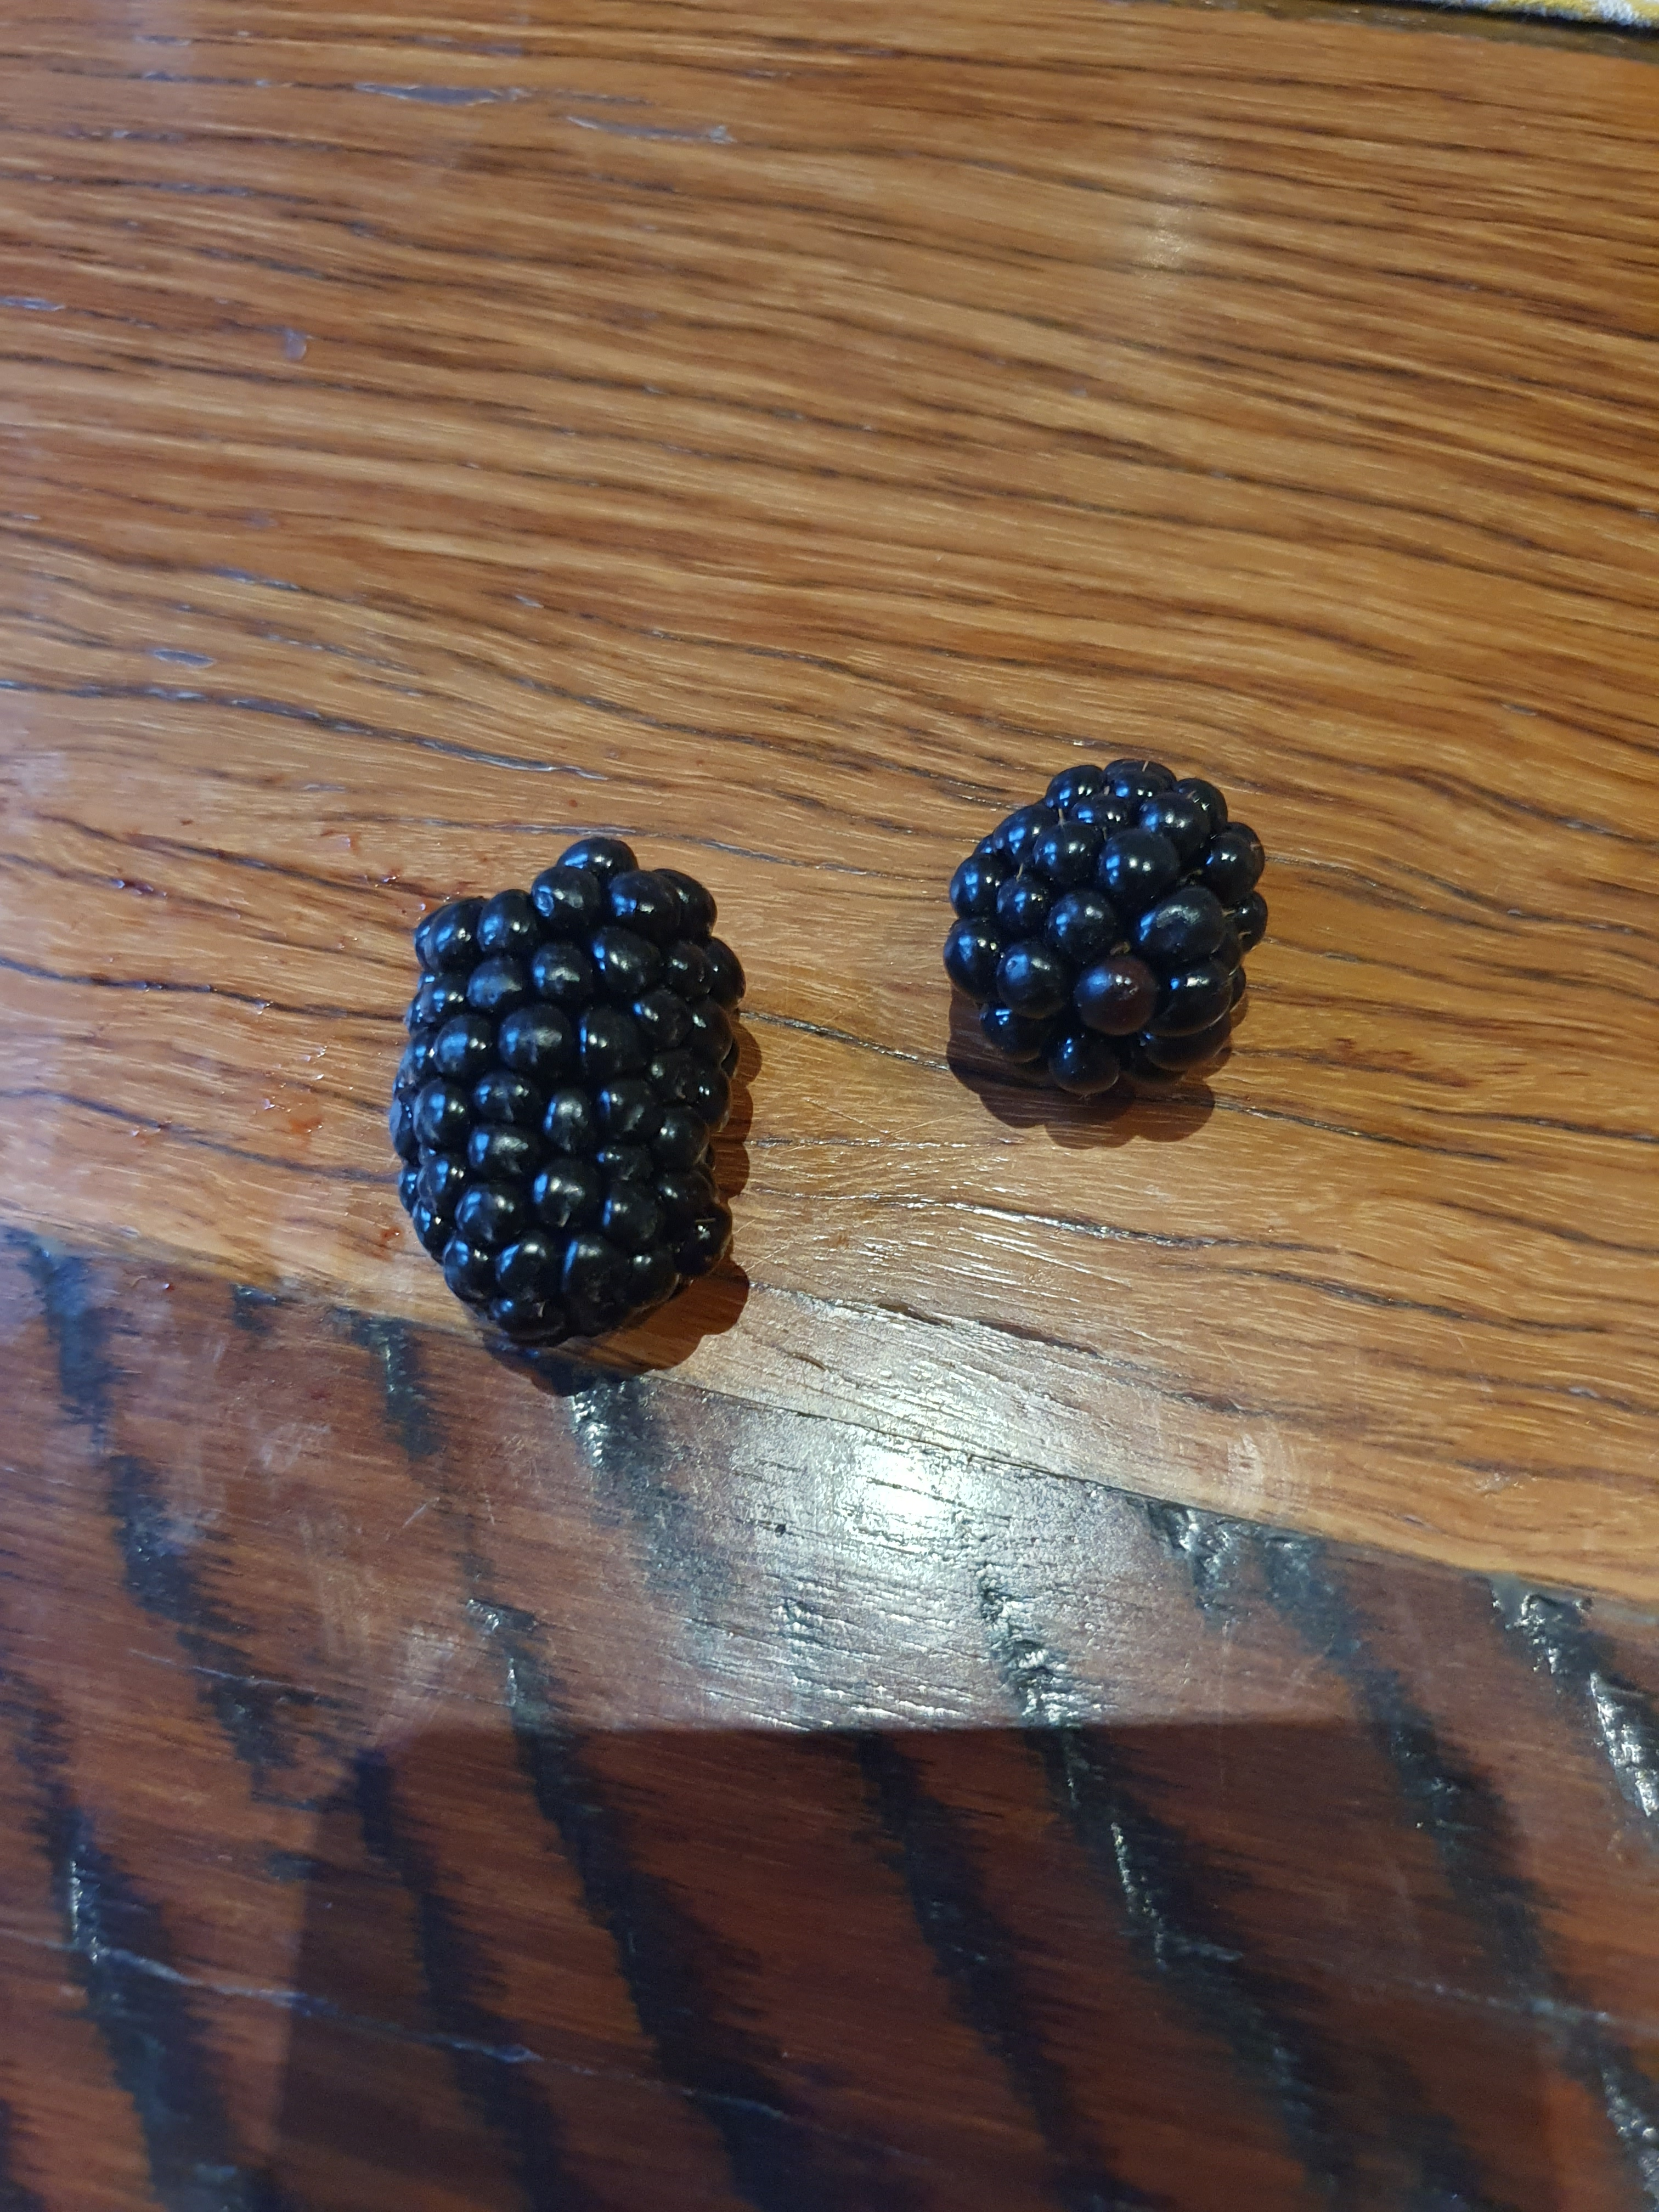blackberry: (378, 803, 765, 1385), (934, 733, 1272, 1122)
